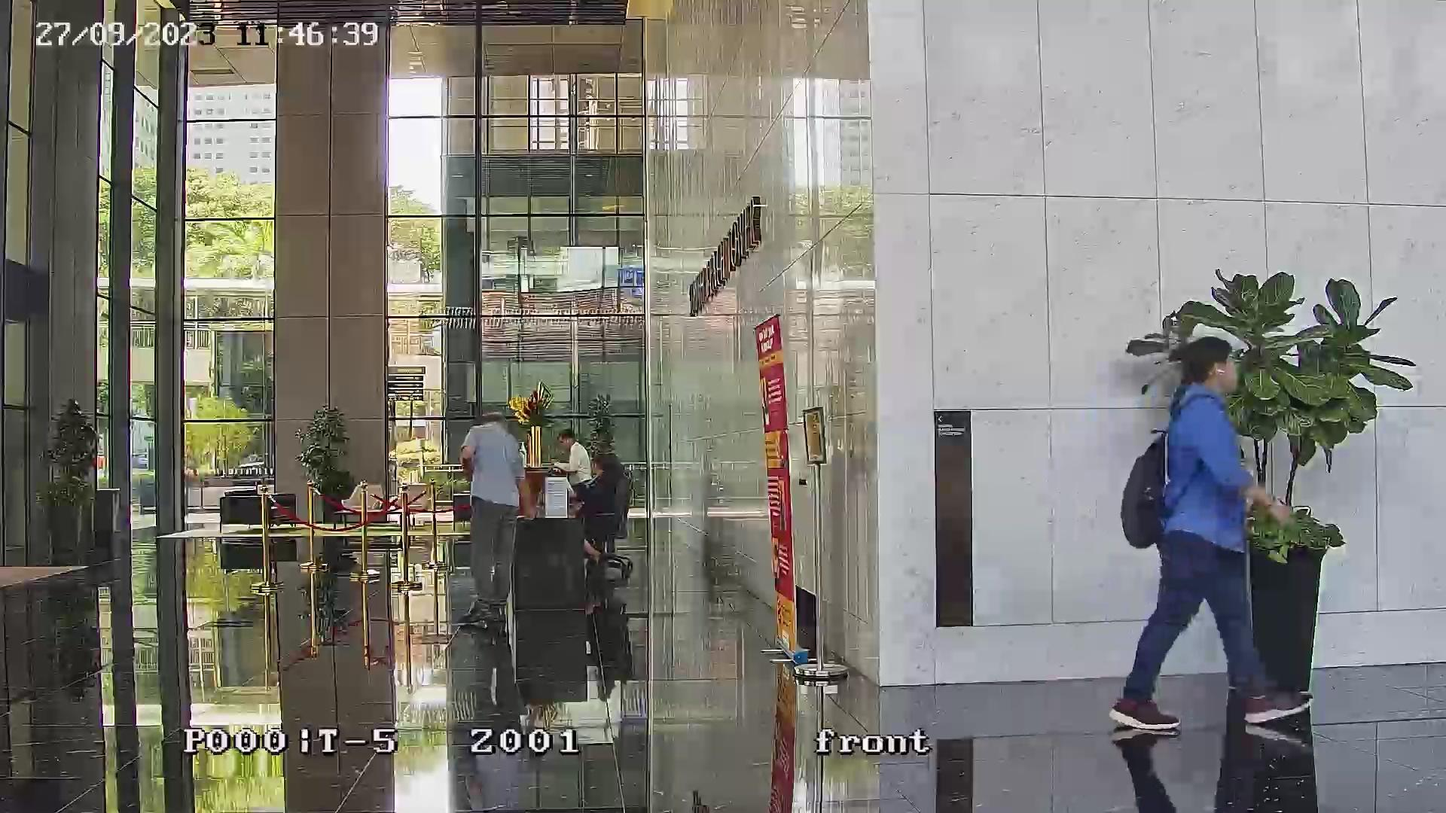person: (1109, 332, 1310, 731), (459, 406, 535, 608), (570, 448, 628, 566), (550, 428, 591, 487)
